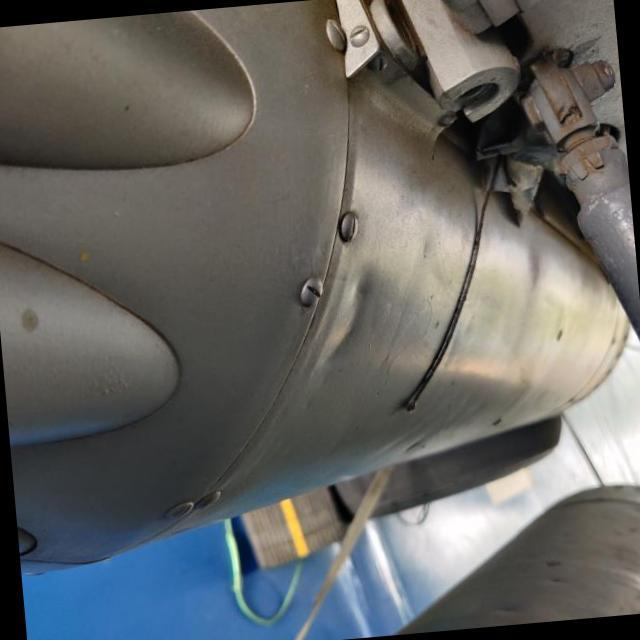Dent: (308, 254, 398, 384)
